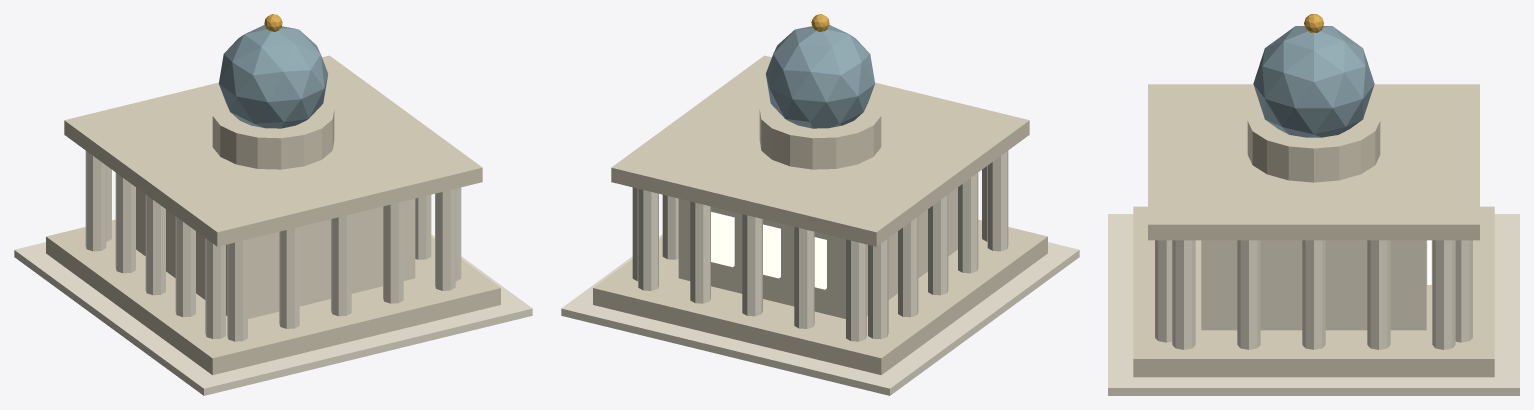
Rendered from greatLibrary.glb.
The picture shows the model from 3 angles, left to right: view 1: azimuth 30°, elevation 25°; view 2: azimuth 150°, elevation 25°; view 3: azimuth 270°, elevation 25°; orthographic projection. The views are drawn at different scales.
Parts seen in each view (by area): view 1: greatLibrary; view 2: greatLibrary; view 3: greatLibrary.
Boxes of the visible parts, box(x1,y1,x2,y2) form: greatLibrary: box(14, 14, 532, 395); greatLibrary: box(561, 14, 1079, 395); greatLibrary: box(1108, 14, 1519, 395).
Size of the model in its own units: 2.85 by 2.25 by 2.85.
